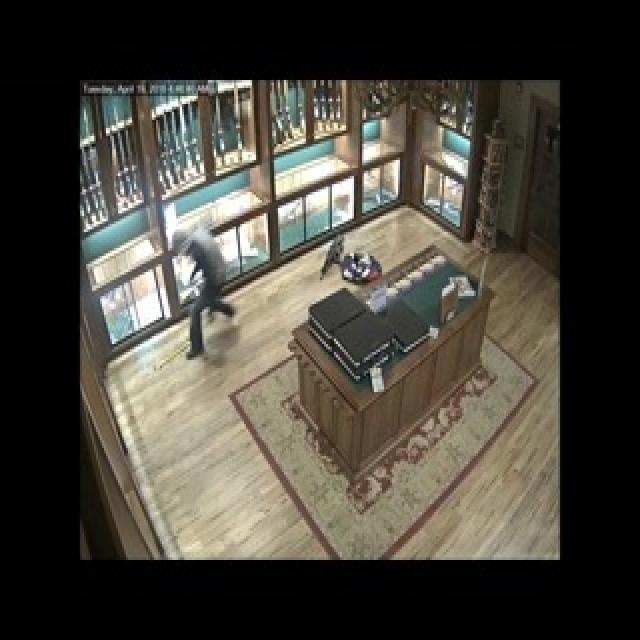thief: (167, 213, 230, 364)
